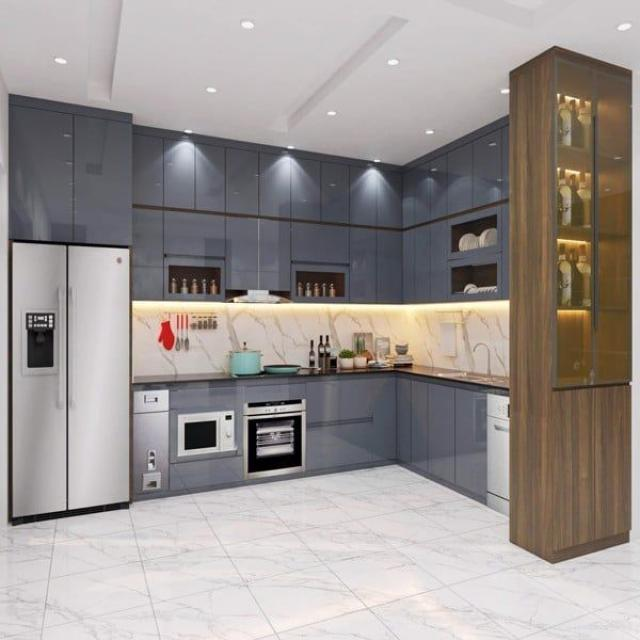obstacle: (8, 239, 131, 525)
